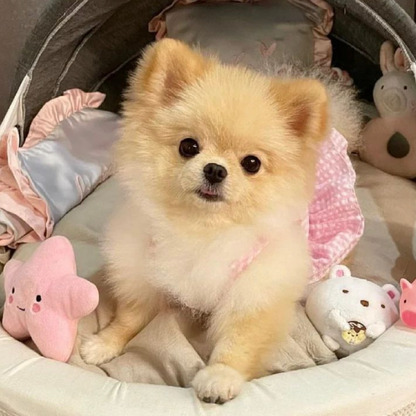Pomeranian: (99, 36, 328, 404)
